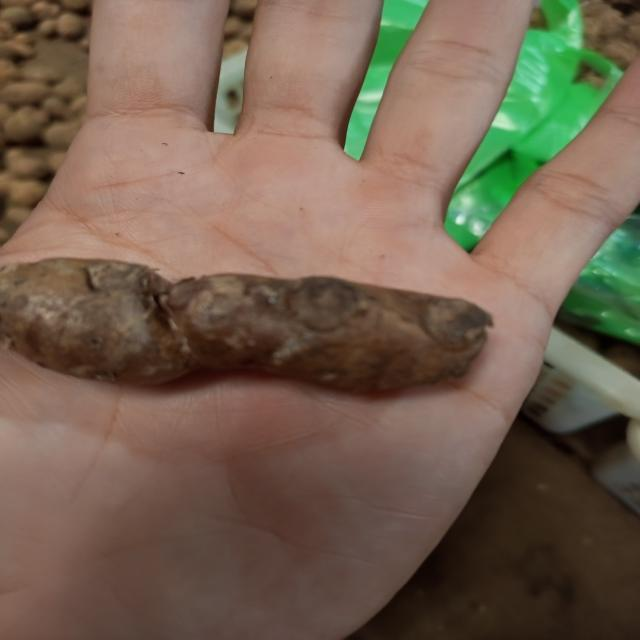ginger: (9, 252, 484, 388)
